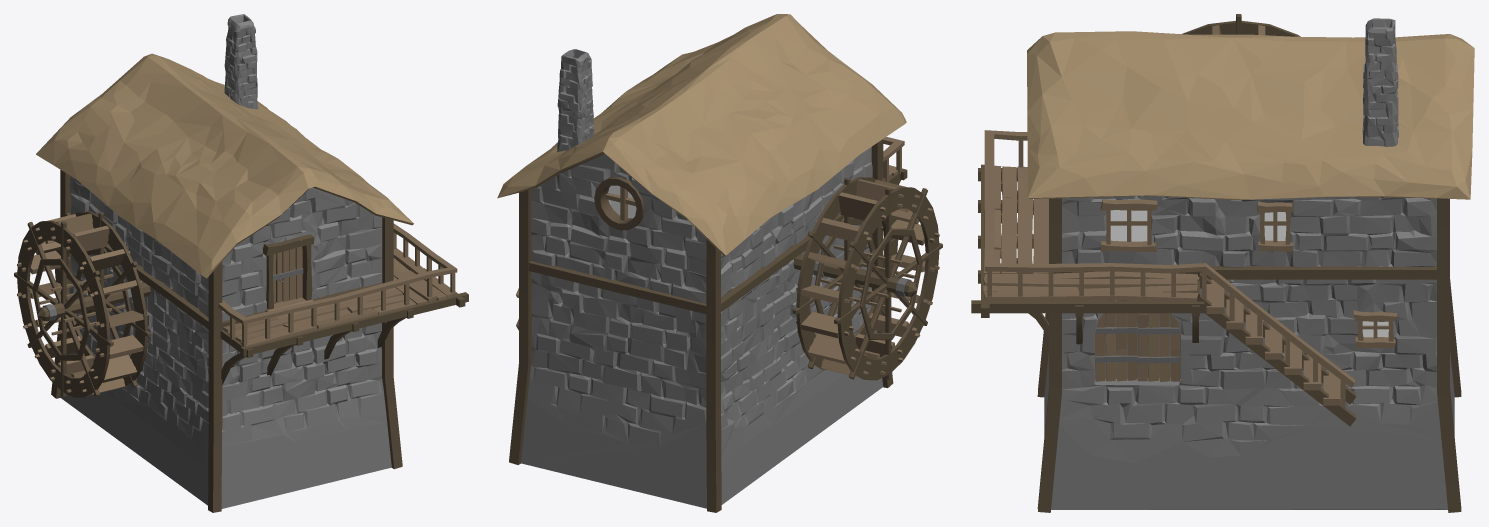
Rendered from village_house_water_wheel_a.FBX.
3 renders of one model, left to right at view 1: azimuth 30°, elevation 25°; view 2: azimuth 150°, elevation 25°; view 3: azimuth 270°, elevation 25°, orthographic. The views are drawn at different scales.
Parts seen in each view (by area): view 1: village_house_water_wheel_a; view 2: village_house_water_wheel_a; view 3: village_house_water_wheel_a.
Boxes of the visible parts, left/top/right/bottom form: village_house_water_wheel_a: left=14, top=14, right=468, bottom=512; village_house_water_wheel_a: left=497, top=14, right=942, bottom=512; village_house_water_wheel_a: left=971, top=14, right=1474, bottom=512.
Size of the model in its own units: 11.67 by 12.07 by 11.68.
